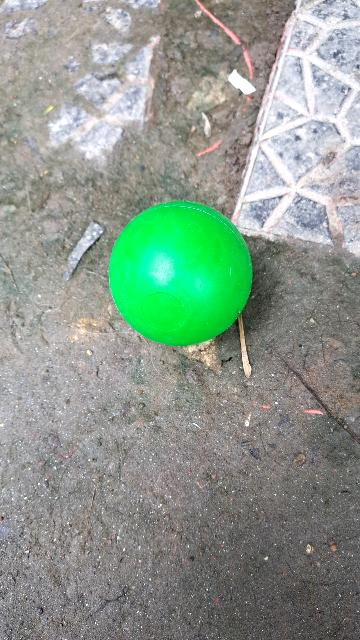hardplastic: (107, 194, 260, 348)
